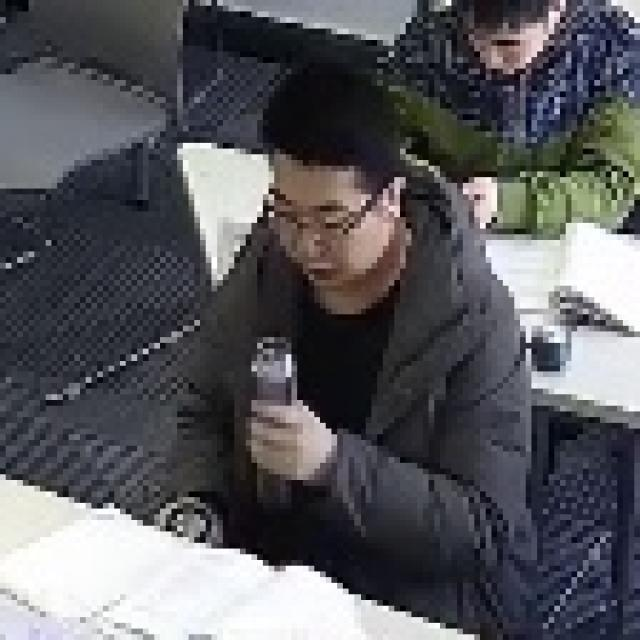drink: (191, 65, 504, 640)
phone: (343, 0, 640, 234)
